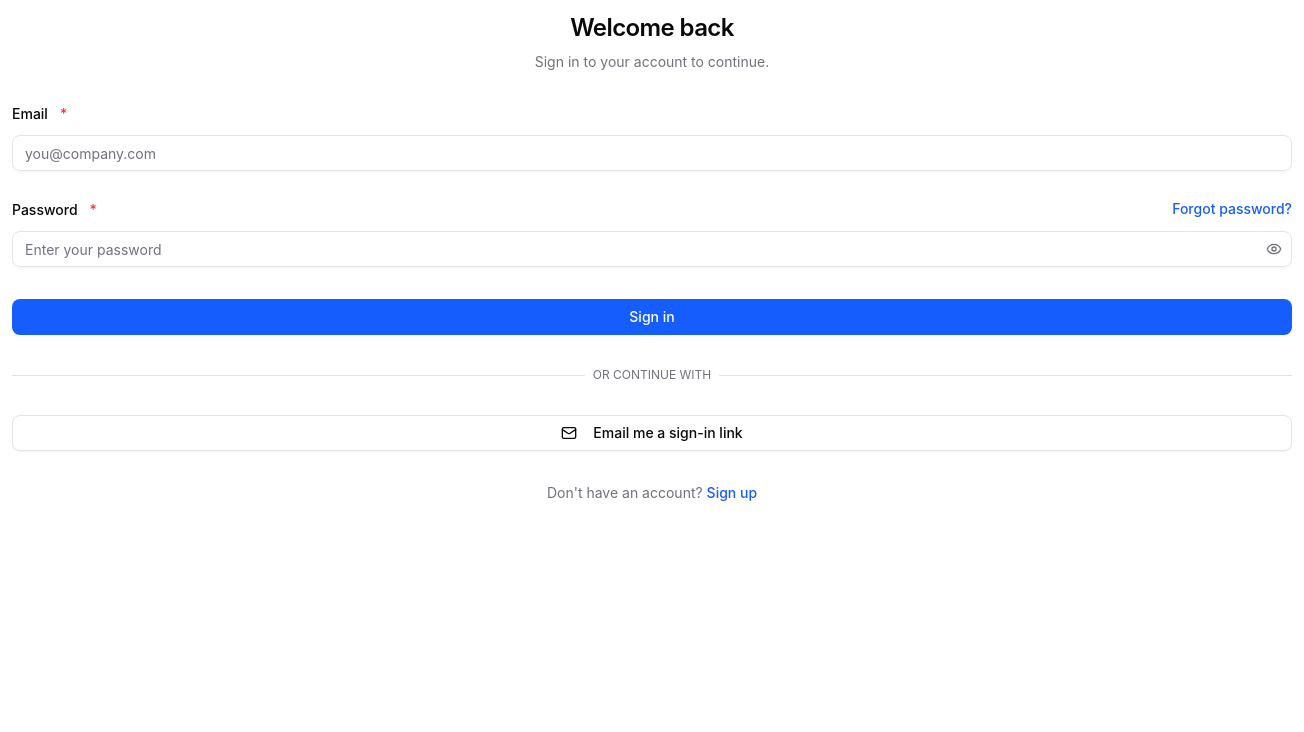
Test: LoginForm passwordless sign-in › shows the backend error when no account exists for the email
The image size is (1304, 732).
Type "missing@example.com" into the field labelled "Email *" at (652, 153), box [12,135,1292,171]
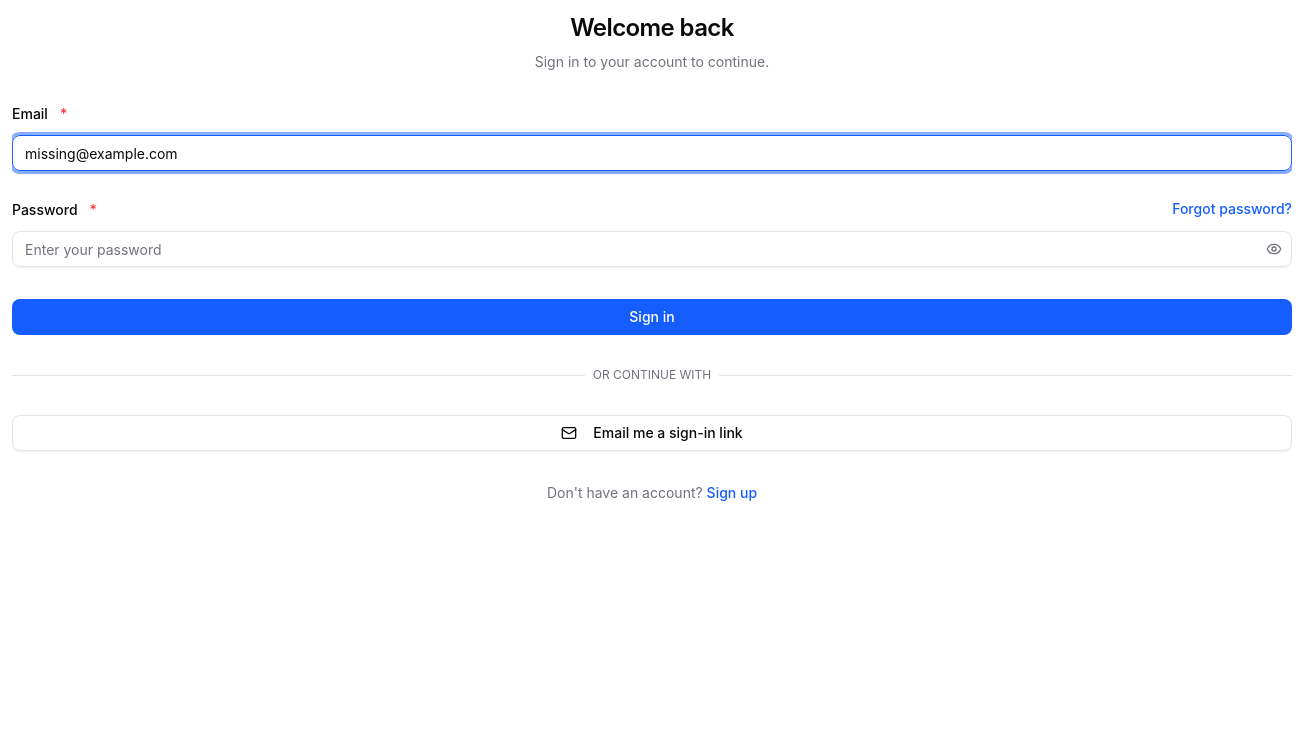
Click the button "Email me a sign-in link" at (652, 433), box [12,415,1292,451]
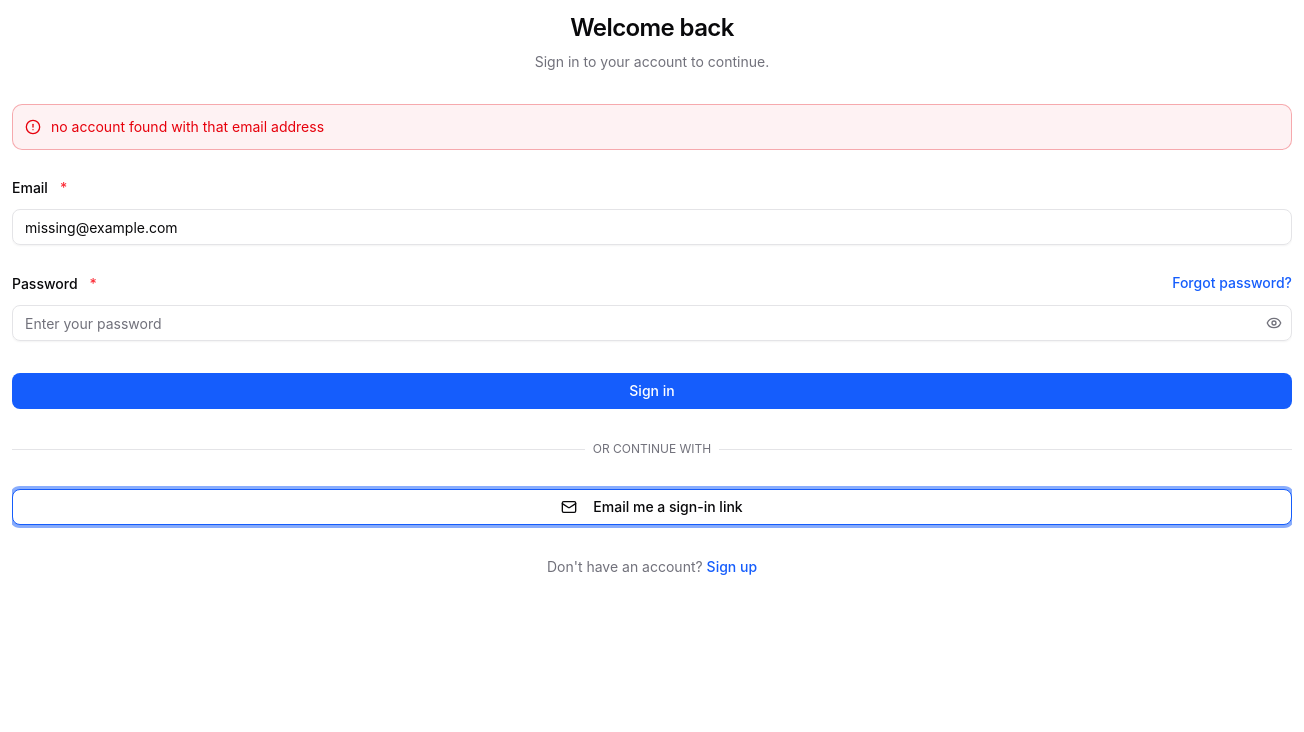
expect the message reads "no account found with that email address": met, box [51,118,324,135]
